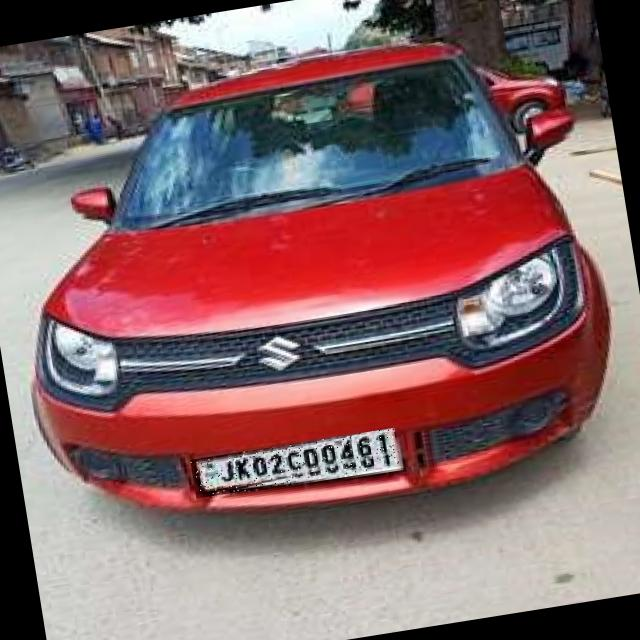Plate: (191, 429, 402, 500)
